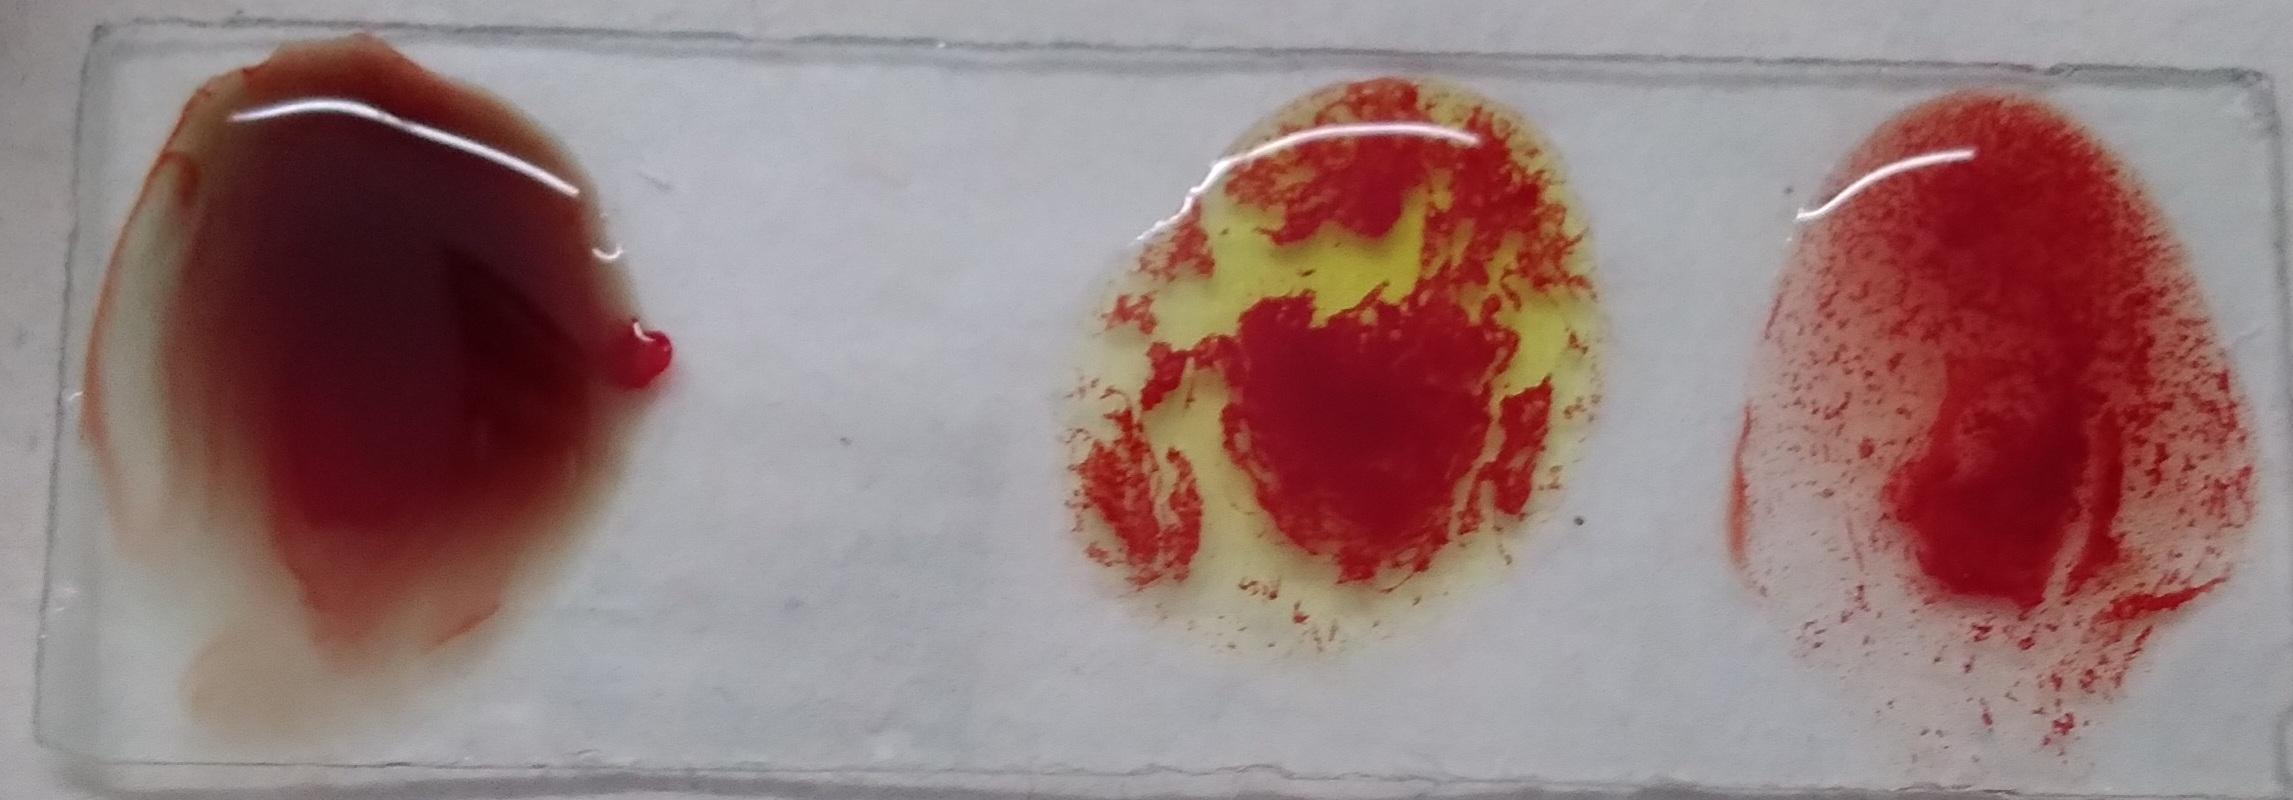B: (680, 146, 1218, 706)
D: (42, 32, 554, 725)
